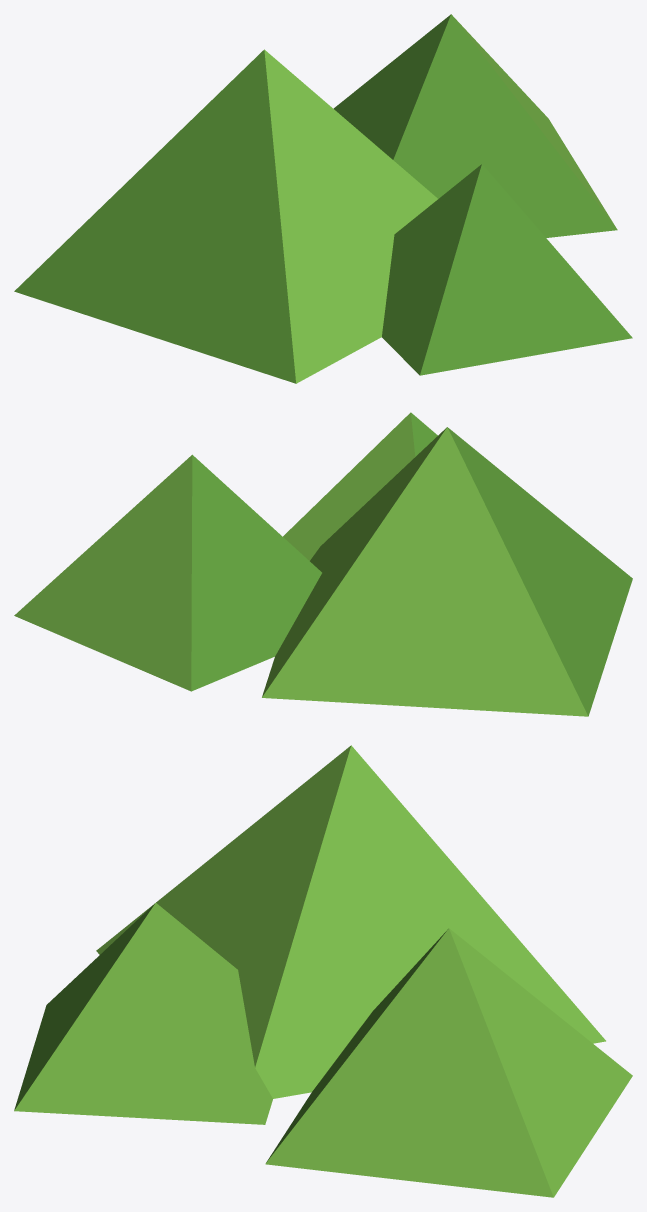
Rendered from plant_bushLargeTriangle.glb.
3 renders of one model, top to bottom at view 1: azimuth 30°, elevation 25°; view 2: azimuth 150°, elevation 25°; view 3: azimuth 270°, elevation 25°, orthographic. The views are drawn at different scales.
Visible parts, largest first — view 1: plant_bushLargeTriangle; view 2: plant_bushLargeTriangle; view 3: plant_bushLargeTriangle.
Part boxes in pixels (left/top/right/bottom): plant_bushLargeTriangle: left=14, top=14, right=632, bottom=383; plant_bushLargeTriangle: left=14, top=412, right=632, bottom=716; plant_bushLargeTriangle: left=14, top=745, right=632, bottom=1197.
Size of the model in its own units: 0.4497 by 0.17 by 0.3801.
Materials: 1 (1 with a texture image).
